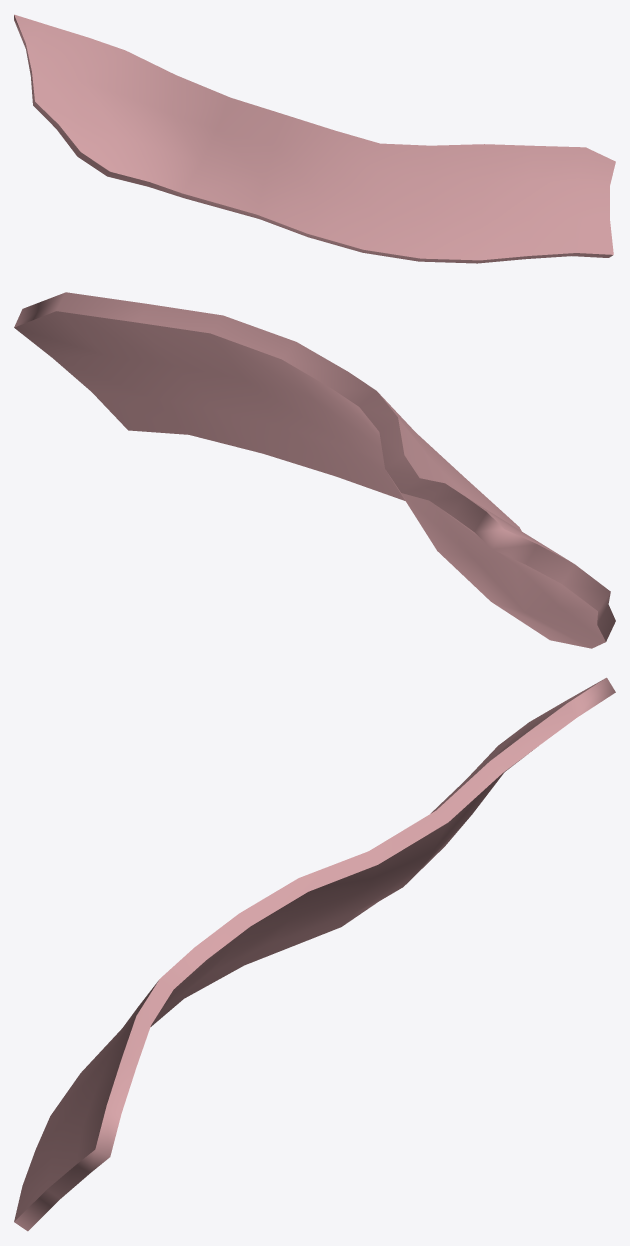
3 views of the same model, one above another, from view 1: azimuth 30°, elevation 25°; view 2: azimuth 150°, elevation 25°; view 3: azimuth 270°, elevation 25° (orthographic). The views are drawn at different scales.
Parts seen in each view (by area): view 1: ZA_56f1123e4a11e89e; view 2: ZA_56f1123e4a11e89e; view 3: ZA_56f1123e4a11e89e.
Part boxes in pixels (left/top/right/bottom): ZA_56f1123e4a11e89e: left=14, top=14, right=615, bottom=263; ZA_56f1123e4a11e89e: left=14, top=292, right=615, bottom=648; ZA_56f1123e4a11e89e: left=14, top=677, right=615, bottom=1231.
Bounding box in the file's own units: 0.1256 × 0.0524 × 0.1031.
